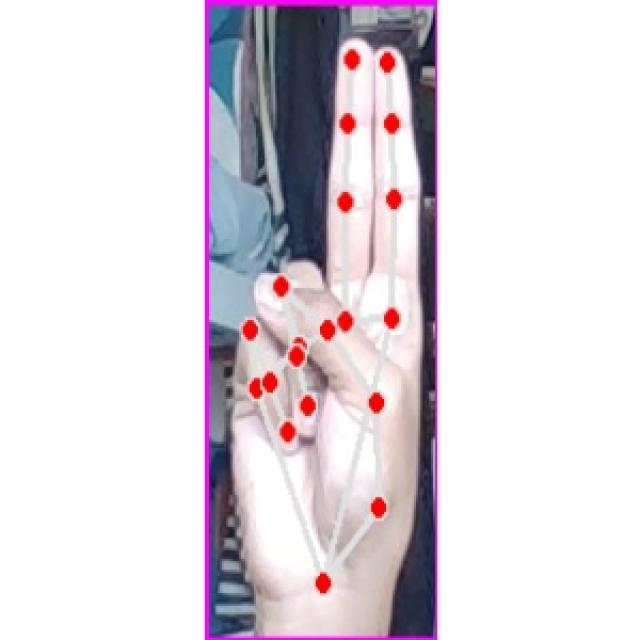U: (226, 28, 424, 622)
